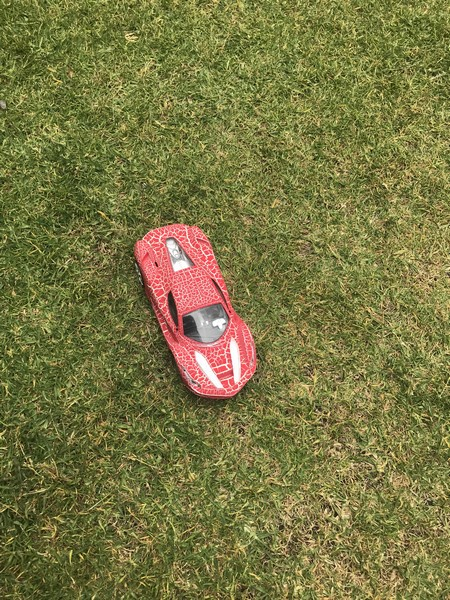RC: (130, 223, 259, 402)
